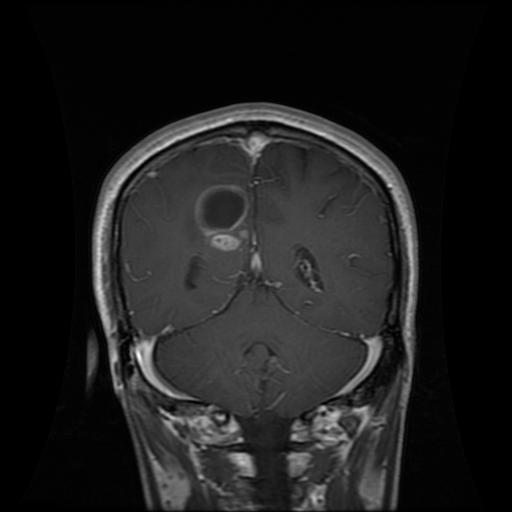Gliomia_tumour: (190, 179, 257, 250)
